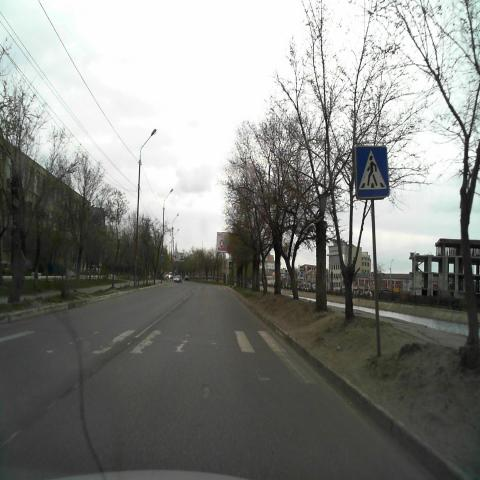5_19_1: (356, 144, 390, 198)
